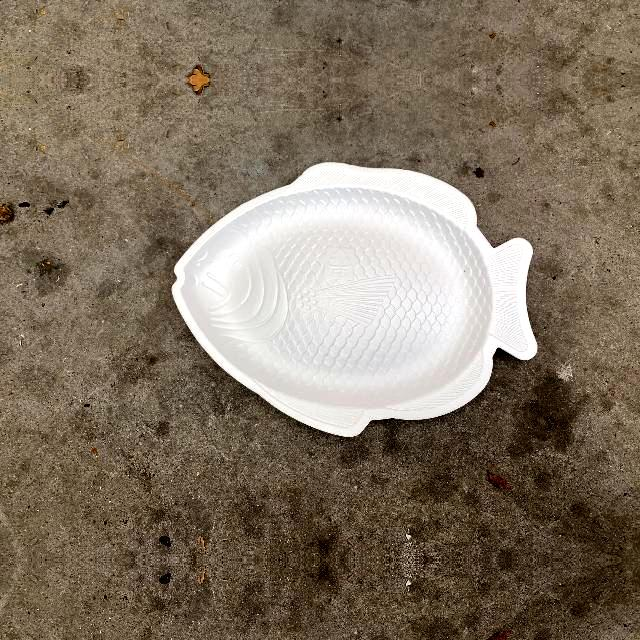Styrofoam: (170, 161, 538, 439), (171, 162, 538, 436)
